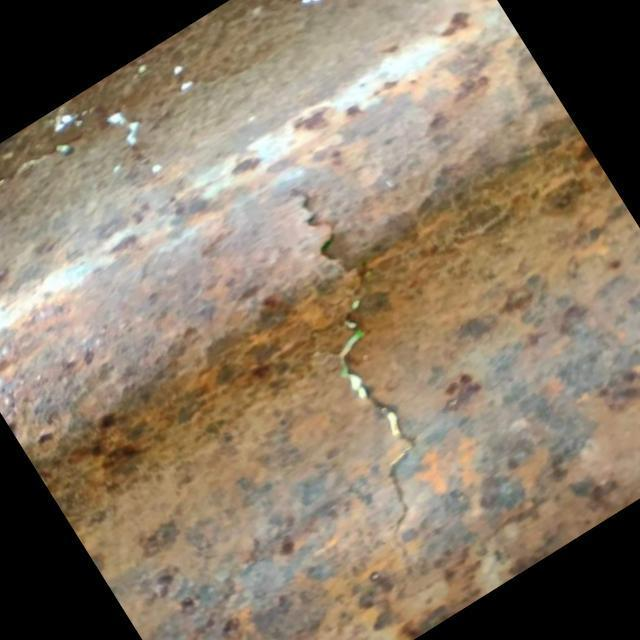defect: (277, 179, 427, 596)
